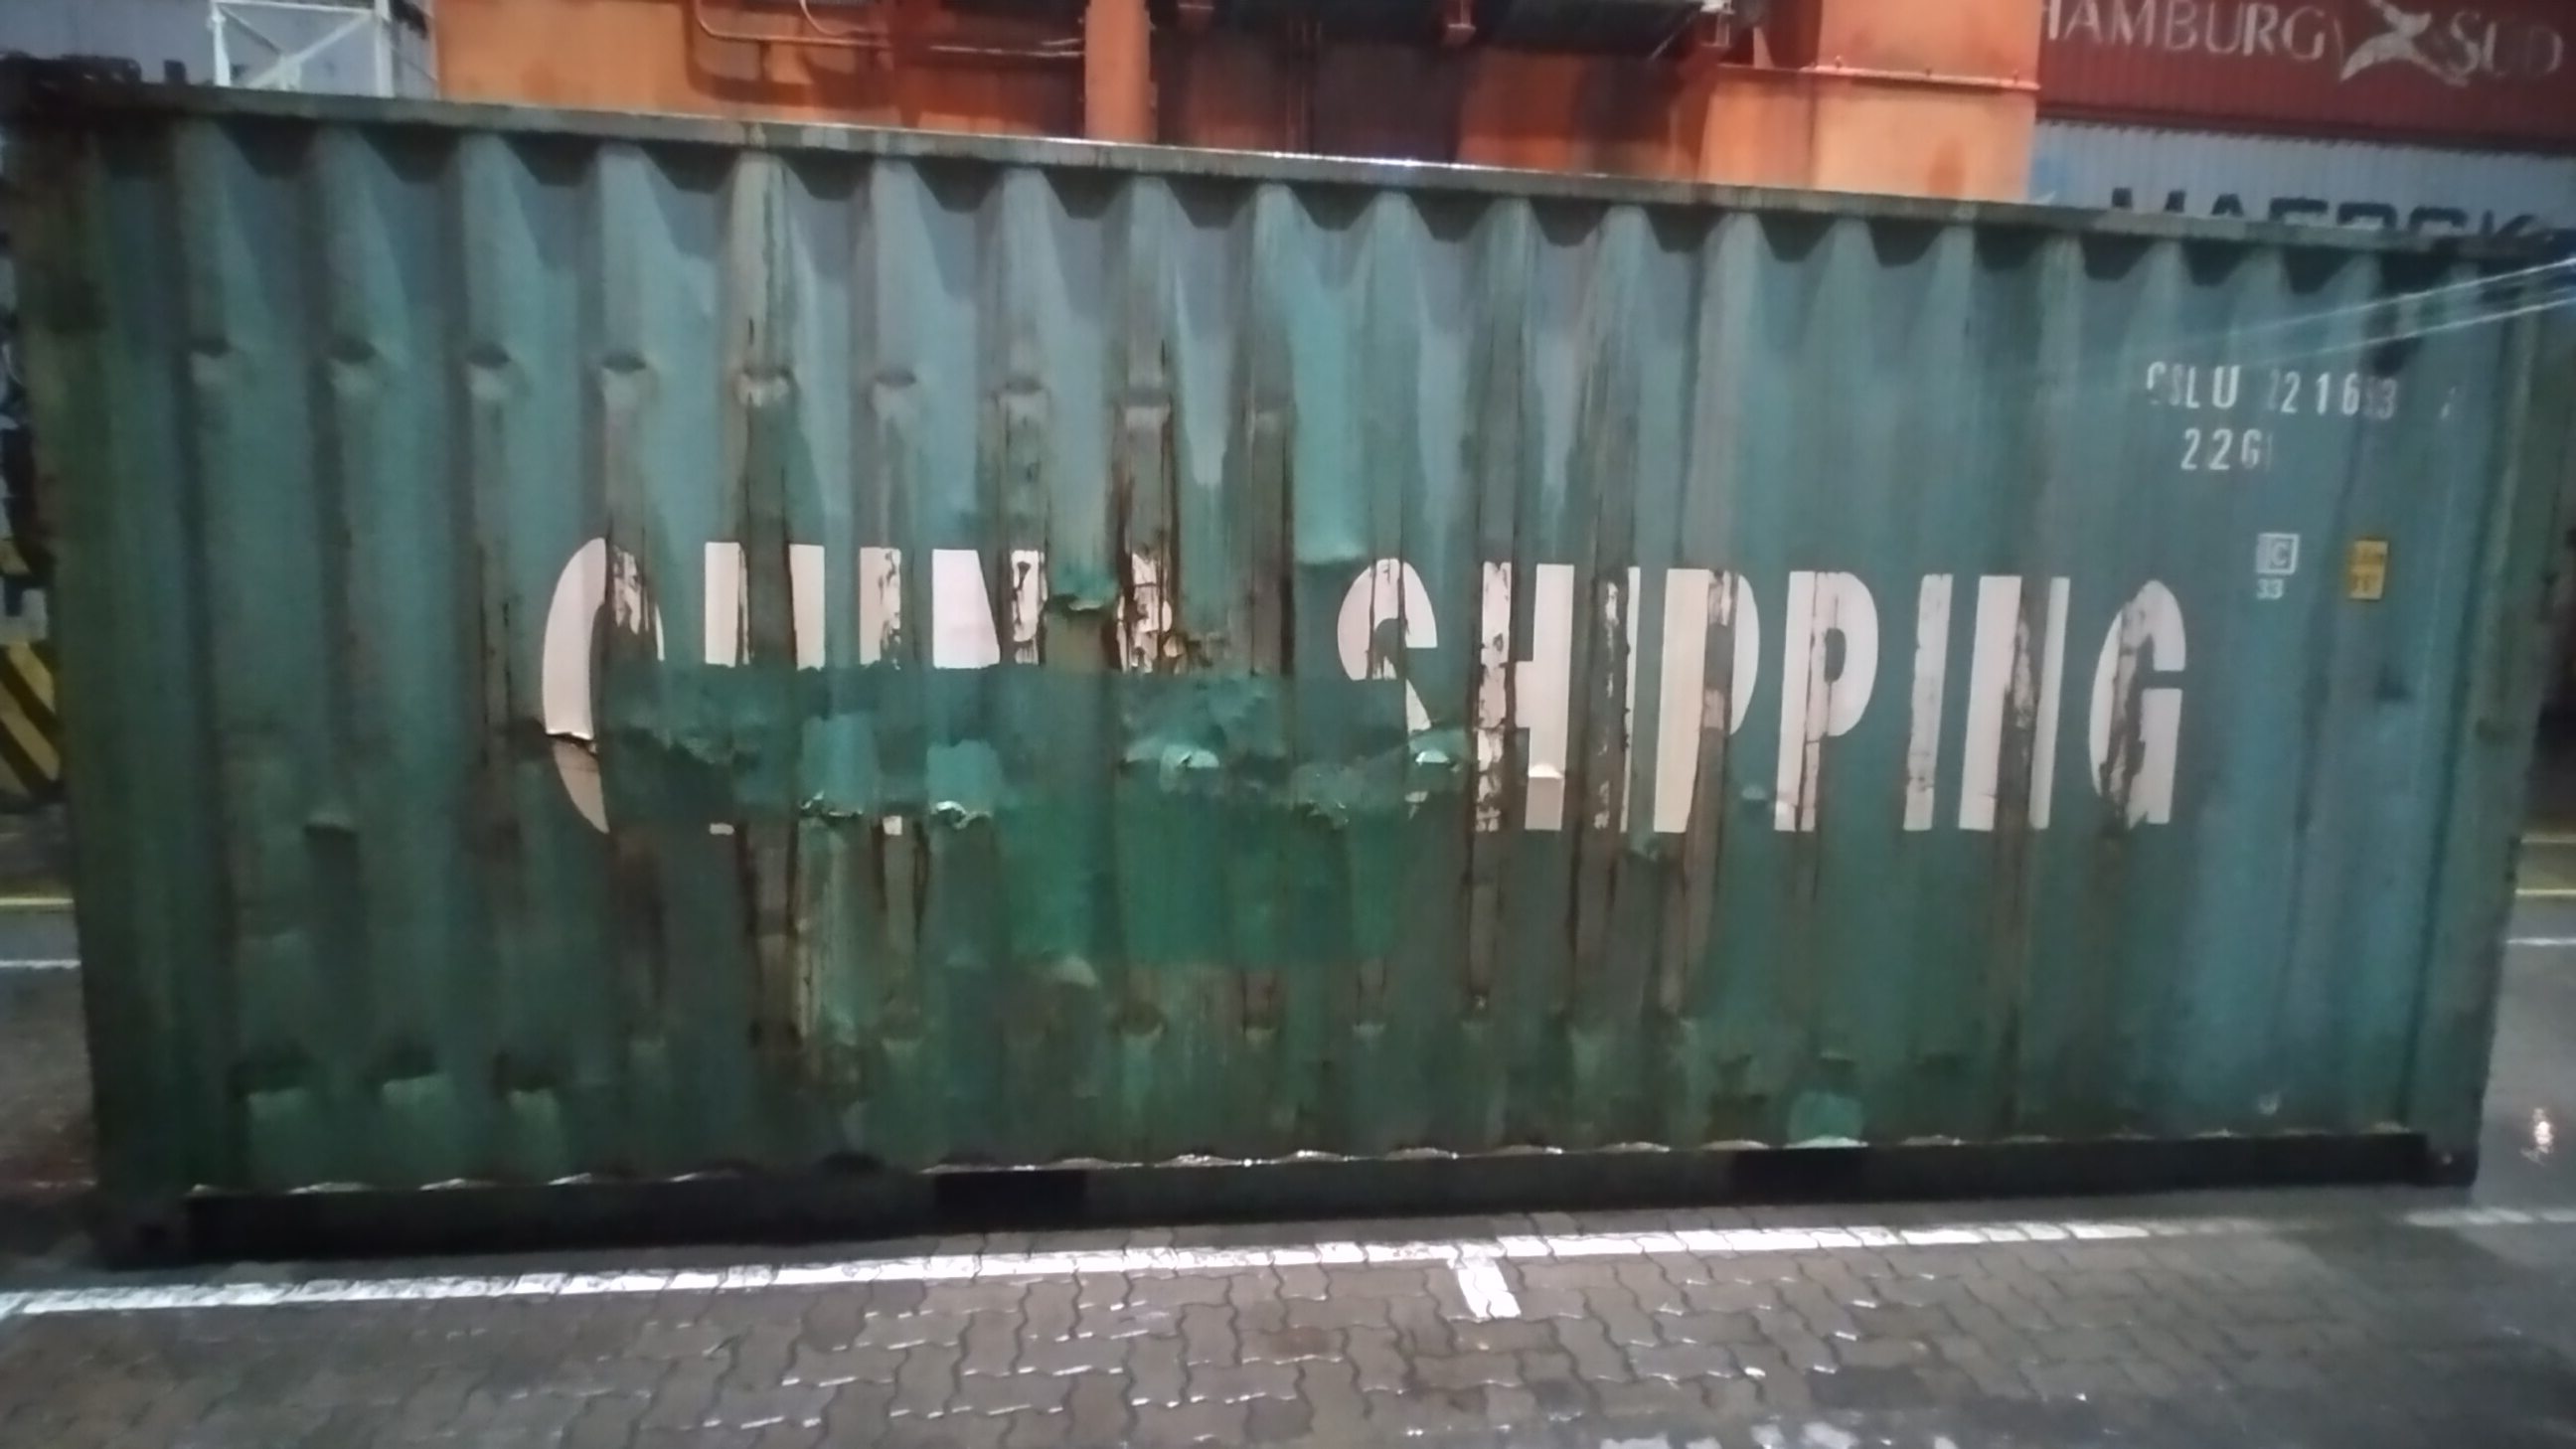dented: (203, 313, 1306, 453), (196, 1014, 651, 1132), (1081, 711, 1465, 847), (497, 709, 798, 810)
